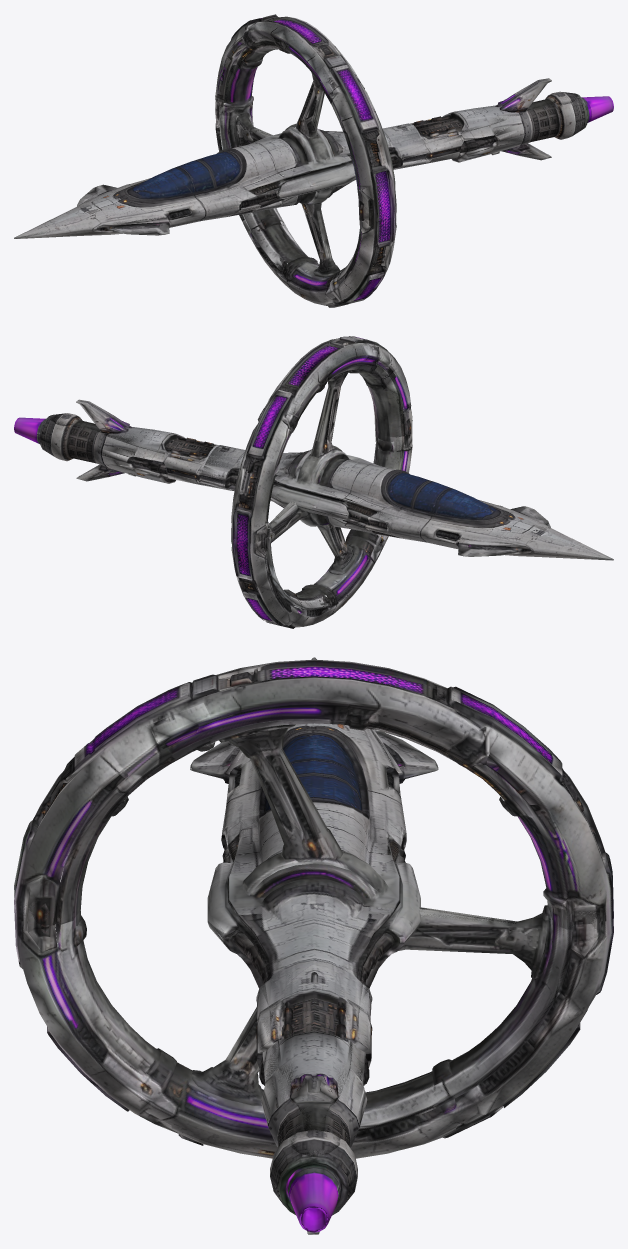
The model's file is detailed-06.glb.
3 views of the same model, one above another, from view 1: azimuth 30°, elevation 25°; view 2: azimuth 150°, elevation 25°; view 3: azimuth 270°, elevation 25° (orthographic). The views are drawn at different scales.
Parts seen in each view (by area): view 1: debris_1_1, debris_1_0, debris_2_0, debris_0_1, hull, debris_0_0, debris_2_1; view 2: debris_1_1, debris_1_0, debris_0_1, debris_2_0, debris_0_0, hull, debris_2_1; view 3: debris_1_1, debris_1_0, debris_2_0, hull, debris_2_1, debris_0_1, debris_0_0.
Boxes of the visible parts, bbox=[...] form: debris_1_1: bbox=[205, 14, 422, 221]; debris_1_0: bbox=[215, 108, 425, 307]; debris_2_0: bbox=[423, 93, 613, 163]; debris_0_1: bbox=[54, 157, 235, 223]; hull: bbox=[14, 91, 581, 238]; debris_0_0: bbox=[14, 178, 237, 238]; debris_2_1: bbox=[407, 78, 577, 144]; debris_1_1: bbox=[204, 336, 422, 543]; debris_1_0: bbox=[202, 434, 412, 628]; debris_0_1: bbox=[392, 478, 573, 545]; debris_2_0: bbox=[14, 414, 203, 484]; debris_0_0: bbox=[390, 506, 613, 560]; hull: bbox=[46, 414, 611, 559]; debris_2_1: bbox=[50, 399, 220, 465]; debris_1_1: bbox=[14, 659, 613, 1006]; debris_1_0: bbox=[16, 827, 613, 1158]; debris_2_0: bbox=[256, 1006, 372, 1234]; hull: bbox=[14, 657, 612, 1161]; debris_2_1: bbox=[268, 988, 359, 1156]; debris_0_1: bbox=[229, 723, 399, 825]; debris_0_0: bbox=[190, 657, 438, 831].
Size of the model in its own units: 1 by 0.4177 by 0.4695.
Materials: 2 (1 with a texture image).
